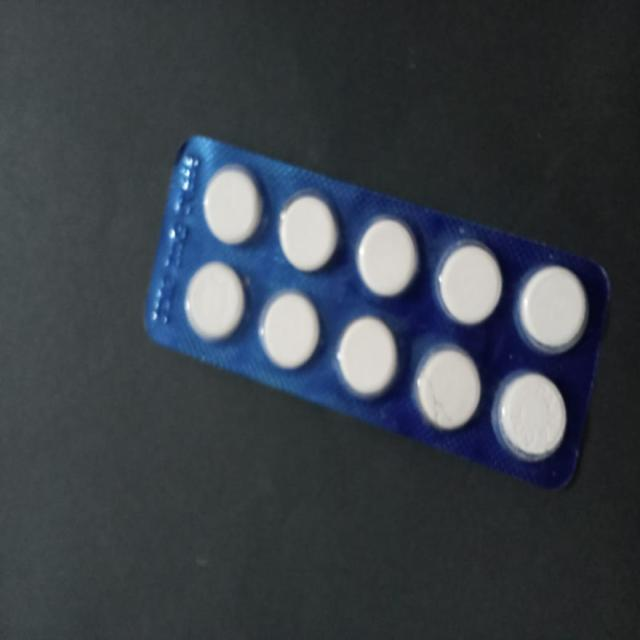defect: (414, 340, 483, 435)
